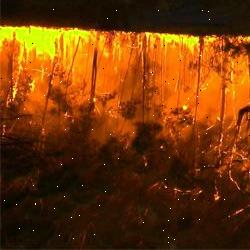fire: (0, 24, 223, 100)
